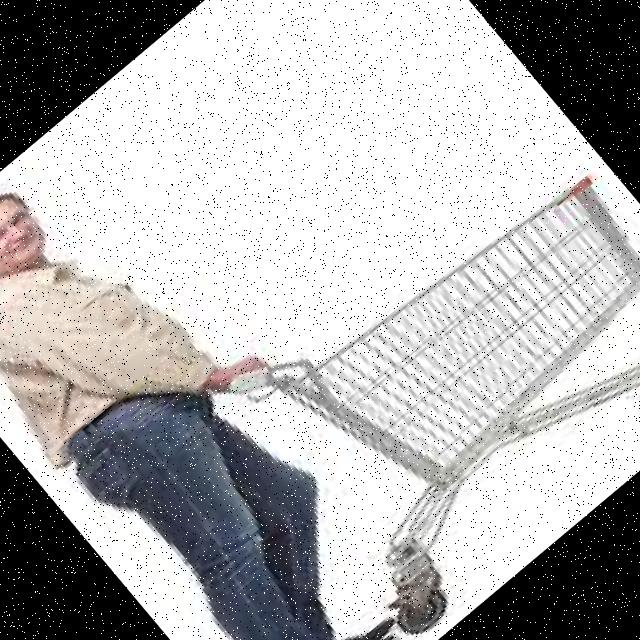Person: (0, 121, 465, 640)
